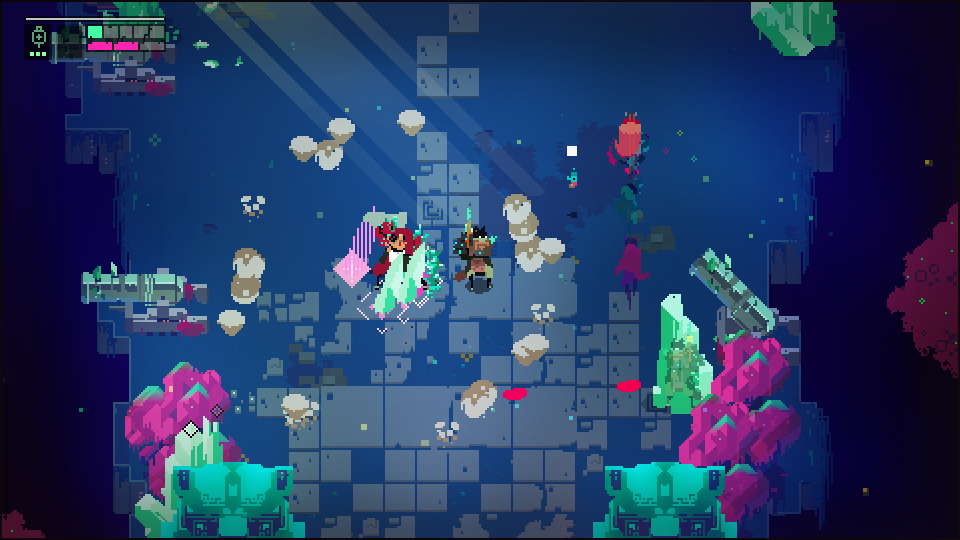hanged_man: (363, 212, 445, 309)
player: (618, 112, 642, 170)
